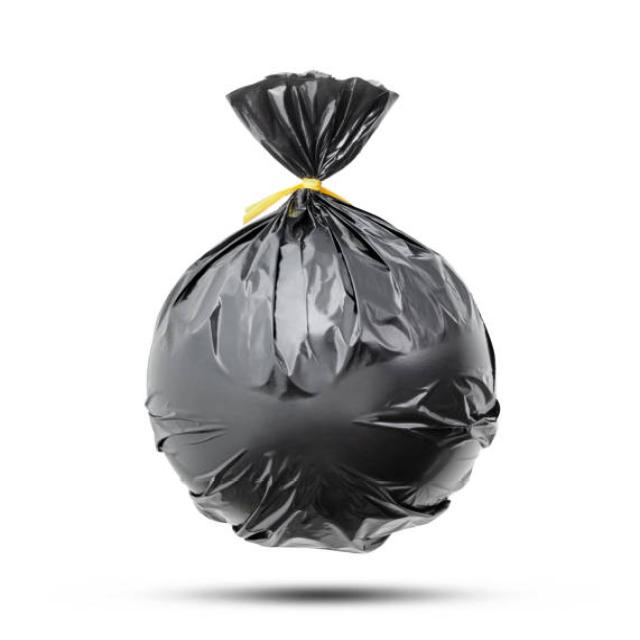trash: (88, 81, 526, 558)
